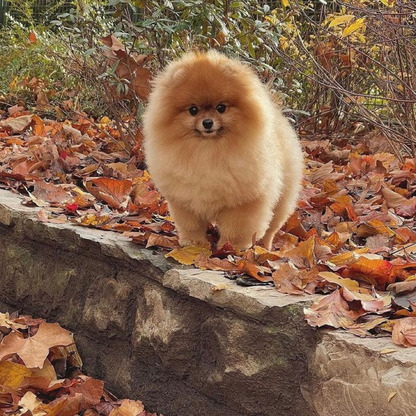Pomeranian: (126, 47, 328, 281)
